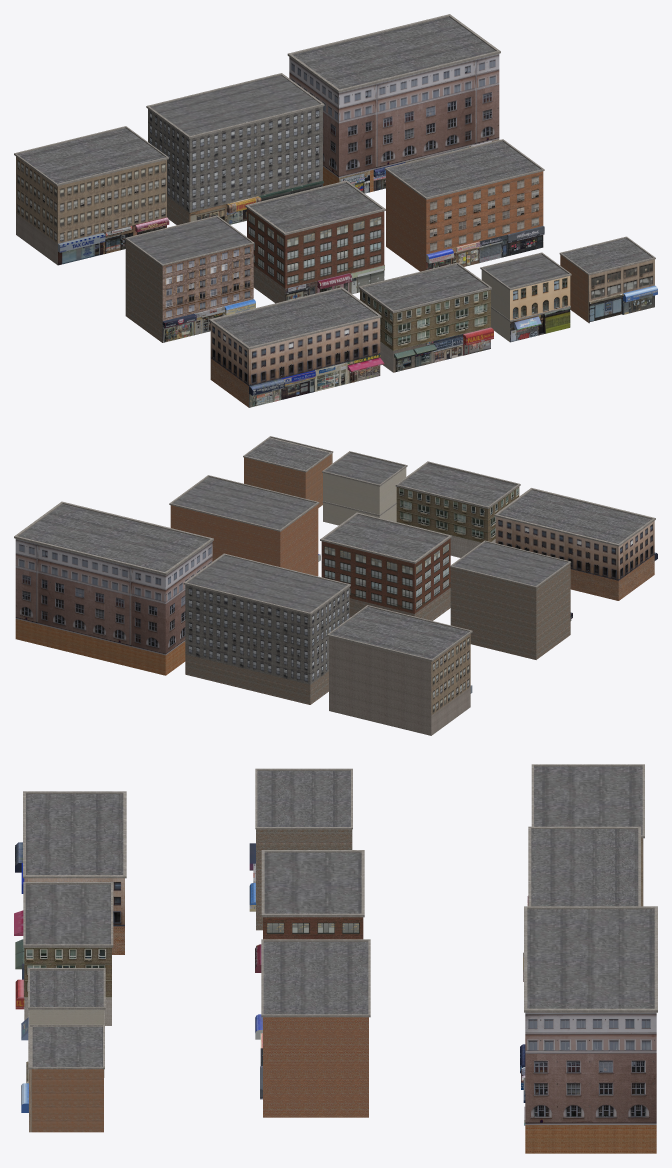
Rendered from buildings.glb.
The picture shows the model from 3 angles, top to bottom: view 1: azimuth 30°, elevation 25°; view 2: azimuth 150°, elevation 25°; view 3: azimuth 270°, elevation 25°; orthographic projection. The views are drawn at different scales.
Visible parts, largest first — view 1: Building_03, Building_02, Building_01, Building_05, Building, Building_06, Building_04, Building_07, Building_09, Building_08; view 2: Building_03, Building_02, Building_01, Building, Building_06, Building_04, Building_05, Building_07, Building_08, Building_09; view 3: Building_03, Building_02, Building_05, Building_09, Building_07, Building_04, Building_06, Building_08.
Part boxes in pixels (x1,y1,x2,y2): Building_03: (14,14,655,349); Building_02: (289,54,499,193); Building_01: (148,106,323,224); Building_05: (386,170,544,271); Building: (16,156,169,265); Building_06: (210,318,384,407); Building_04: (247,208,384,300); Building_07: (360,289,493,372); Building_09: (560,255,657,323); Building_08: (481,270,570,342); Building_03: (14,436,655,704); Building_02: (15,539,212,675); Building_01: (185,585,349,684); Building: (329,634,472,735); Building_06: (495,516,657,600); Building_04: (321,538,450,613); Building_05: (170,504,320,576); Building_07: (396,487,519,557); Building_08: (323,468,406,525); Building_09: (244,453,332,507); Building_03: (23,764,657,1069); Building_02: (520,1012,656,1153); Building_05: (255,1014,368,1117); Building_09: (21,1061,103,1132); Building_07: (15,939,111,1025); Building_04: (255,917,363,972); Building_06: (14,842,124,954); Building_08: (21,1009,104,1077).
Size of the model in its own units: 111 by 26.34 by 107.
Materials: 52 (52 with a texture image).
